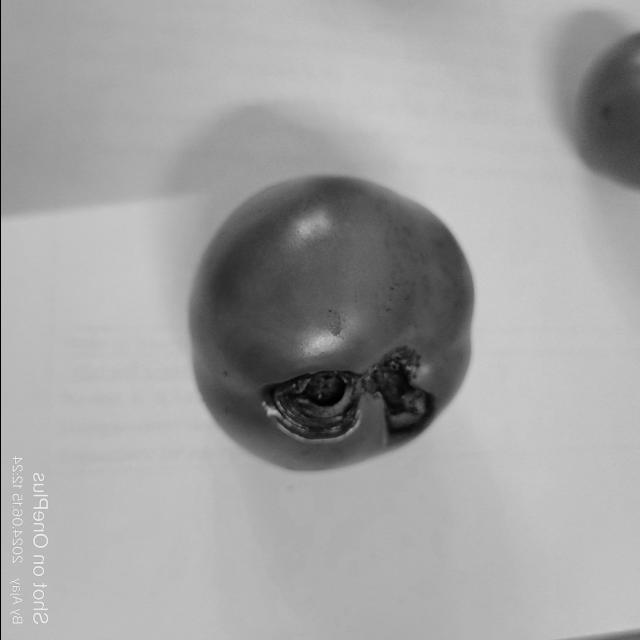Anthrocnose: (260, 361, 368, 445), (374, 344, 436, 440)
